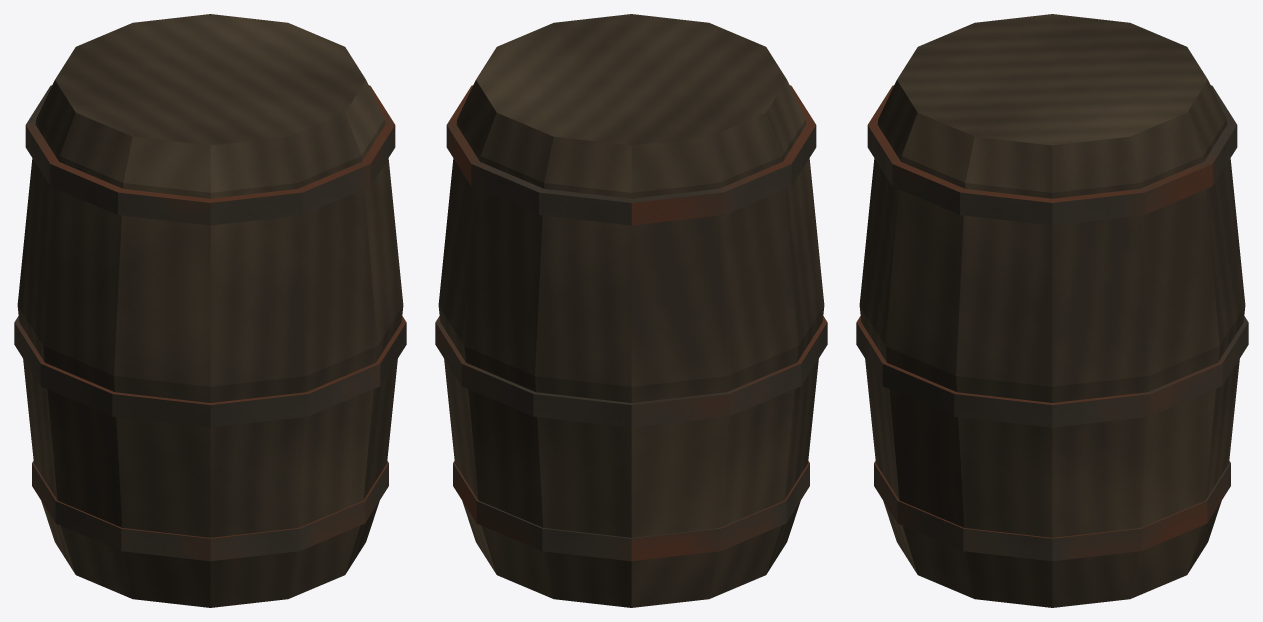
File: Barrel.glb
The picture shows the model from 3 angles, left to right: view 1: azimuth 30°, elevation 25°; view 2: azimuth 150°, elevation 25°; view 3: azimuth 270°, elevation 25°; orthographic projection.
Parts seen in each view (by area): view 1: Barrel; view 2: Barrel; view 3: Barrel.
Part boxes in pixels (x1,y1,x2,y2): Barrel: (14, 14, 406, 607); Barrel: (435, 14, 827, 607); Barrel: (856, 14, 1248, 607).
Bounding box in the file's own units: 0.63 × 0.82 × 0.63.
2 materials, 2 textured.
